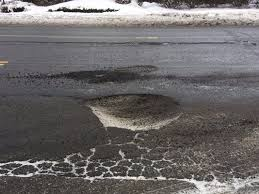pothole: (72, 87, 196, 140)
